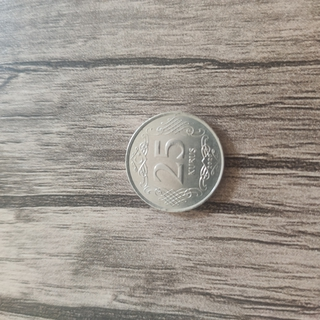25KURUS: (123, 109, 225, 213)
